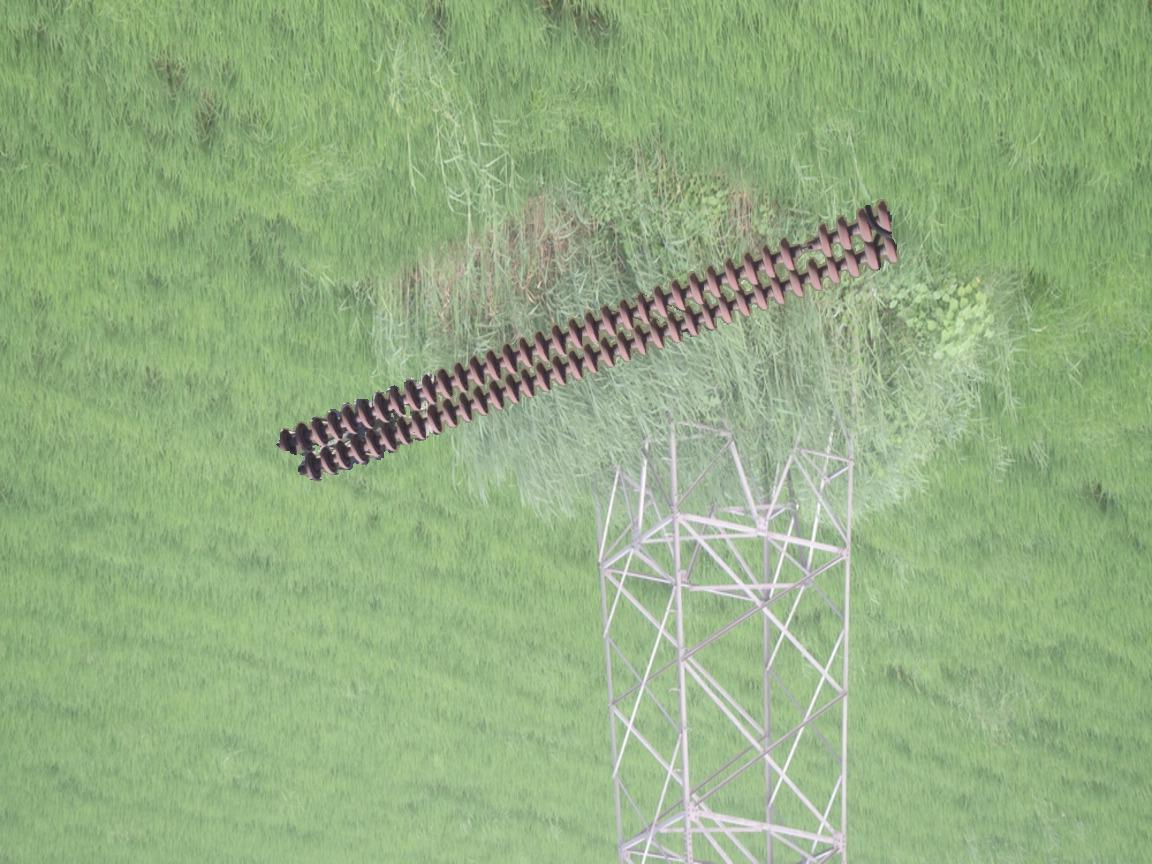insulator: (272, 194, 903, 482)
insulator_stringdrop: (776, 222, 835, 274)
